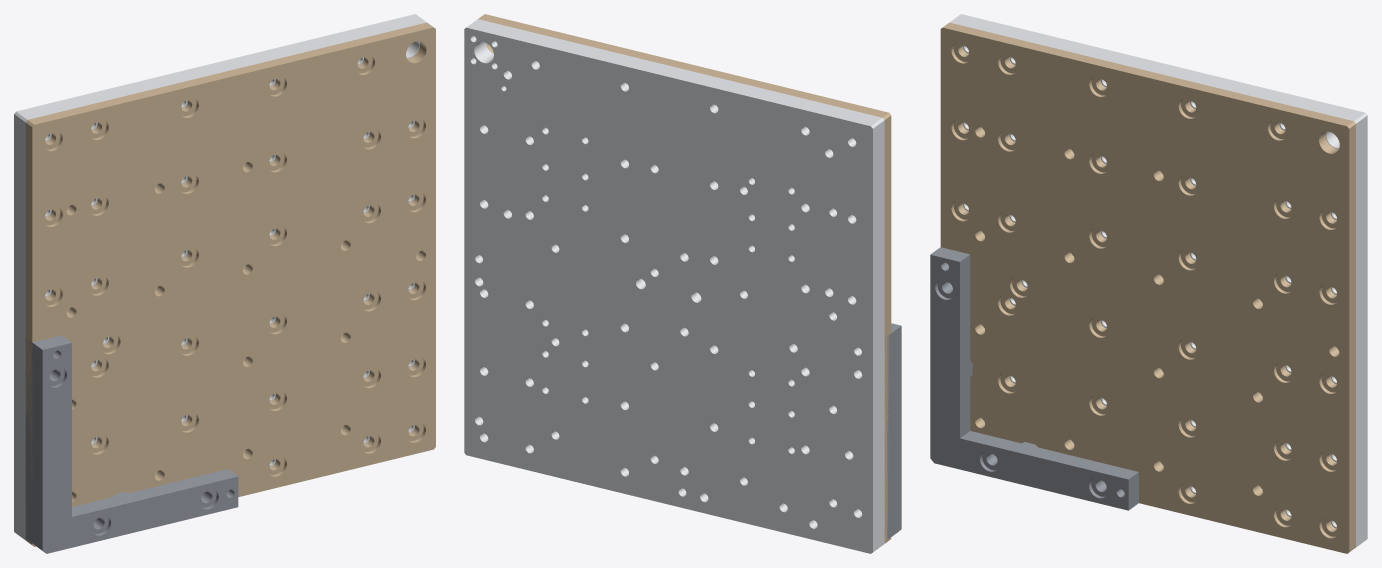
Rendered from compact-bed.glb.
3 renders of one model, left to right at view 1: azimuth 30°, elevation 25°; view 2: azimuth 150°, elevation 25°; view 3: azimuth 330°, elevation 25°, orthographic.
Visible parts, largest first — view 1: MDF Bed, L-Bracket (Thick), Aluminum Base; view 2: Aluminum Base, MDF Bed, L-Bracket (Thick); view 3: MDF Bed, L-Bracket (Thick), Aluminum Base.
Part boxes in pixels (x1,y1,x2,y2): MDF Bed: (25, 22, 435, 546); L-Bracket (Thick): (25, 335, 238, 553); Aluminum Base: (14, 14, 426, 540); Aluminum Base: (464, 19, 884, 553); MDF Bed: (478, 14, 891, 543); L-Bracket (Thick): (885, 323, 901, 539); MDF Bed: (940, 22, 1355, 553); L-Bracket (Thick): (930, 247, 1138, 510); Aluminum Base: (949, 14, 1367, 547).
Bounding box in the file's own units: 206 × 206 × 25.2.
